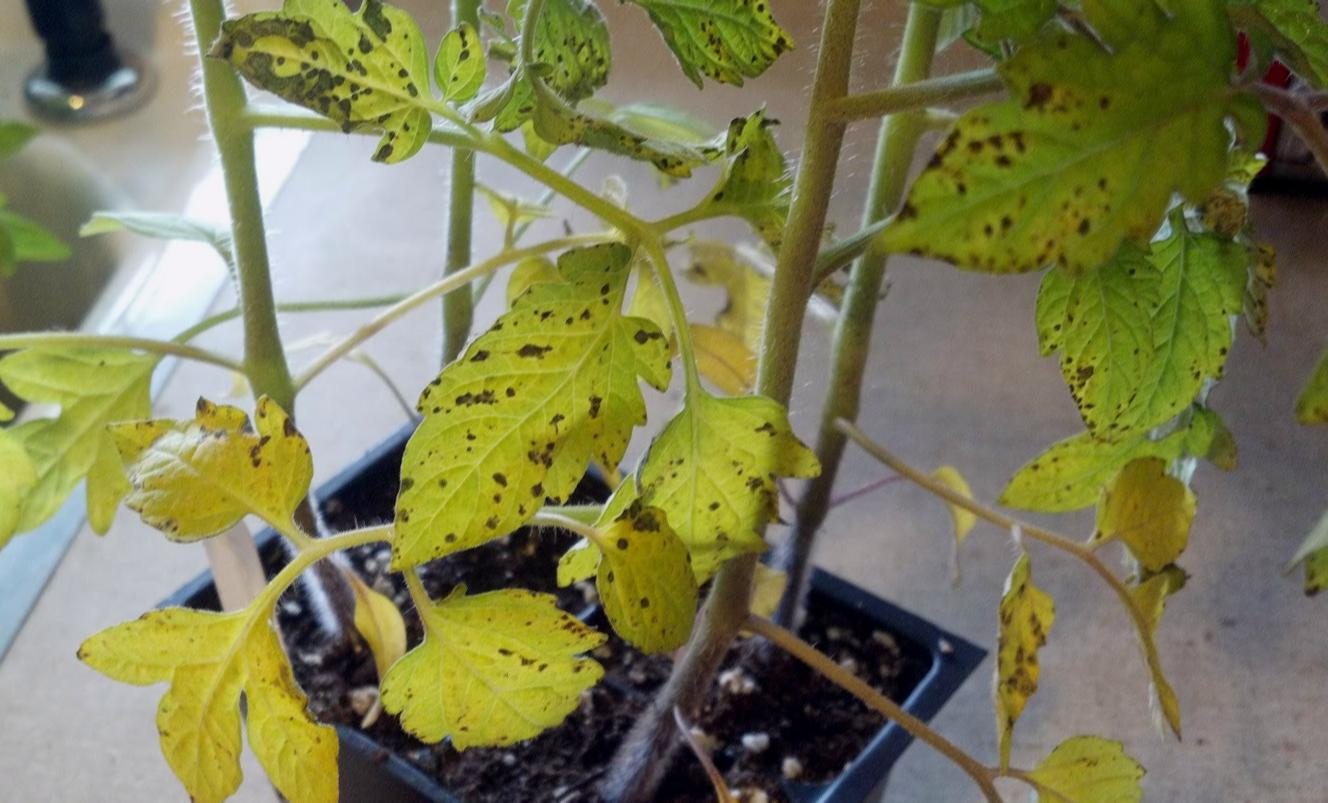Tomato Septoria leaf spot: (863, 0, 1267, 280), (373, 236, 659, 592), (1005, 207, 1325, 449), (373, 565, 614, 754), (630, 376, 844, 582), (206, 0, 444, 177), (580, 0, 807, 77)
